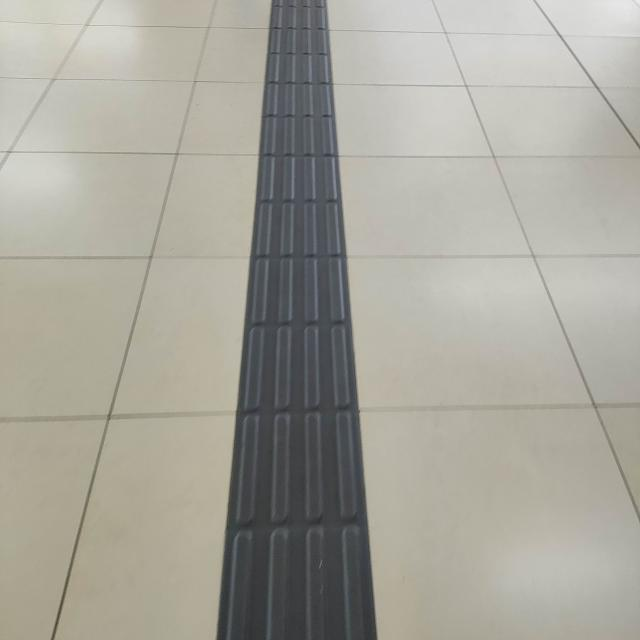lurus: (202, 0, 390, 640)
